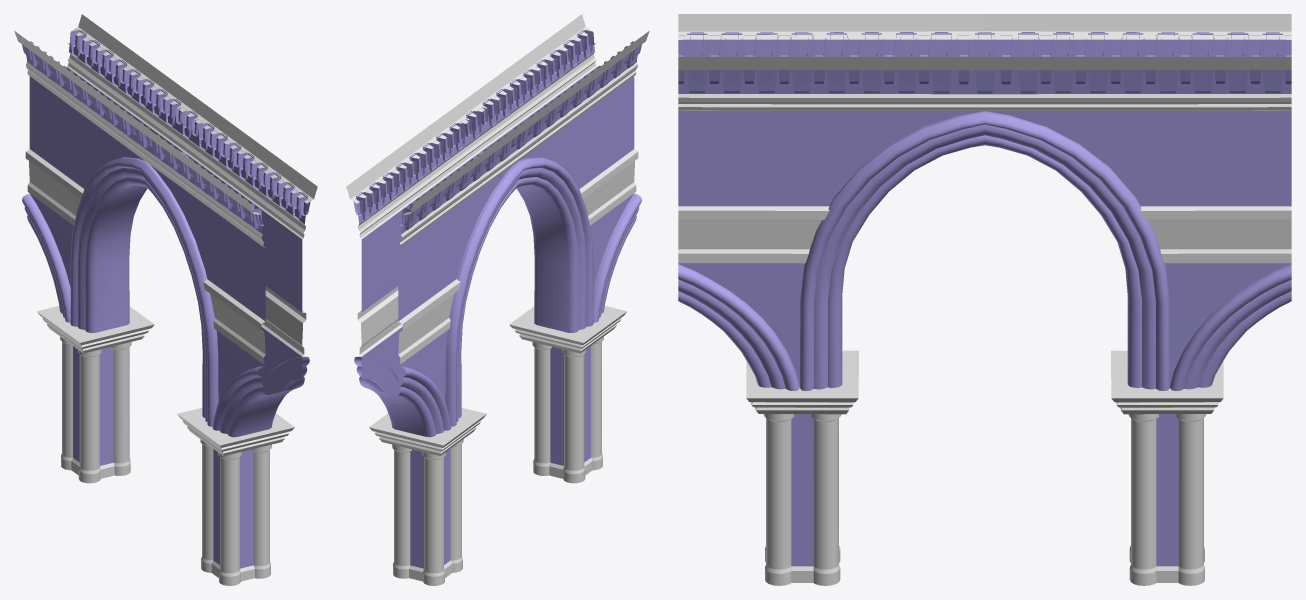
File: Big Arch v2.fbx
The picture shows the model from 3 angles, left to right: view 1: azimuth 30°, elevation 25°; view 2: azimuth 150°, elevation 25°; view 3: azimuth 270°, elevation 25°; orthographic projection. The views are drawn at different scales.
Parts seen in each view (by area): view 1: Big Arch v2_LOD0; view 2: Big Arch v2_LOD0; view 3: Big Arch v2_LOD0.
Part boxes in pixels (x1,y1,x2,y2): Big Arch v2_LOD0: [14, 14, 317, 585]; Big Arch v2_LOD0: [346, 14, 649, 585]; Big Arch v2_LOD0: [678, 14, 1291, 585].
Size of what is drawn, in the model's own units: 161 by 844 by 877.
